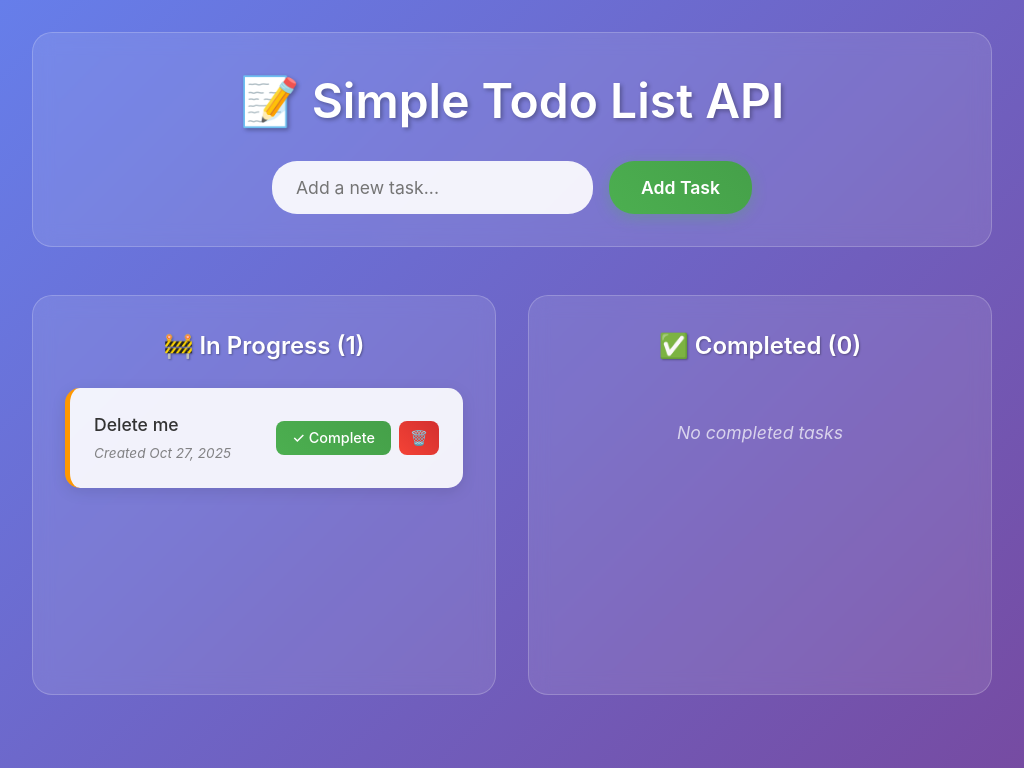
deletes a todo removes it from the list
The image size is (1024, 768).
Expected: the button "Delete me" is shown, x1=94 y1=414 x2=179 y2=435
Click the button "🗑️". click: (419, 438)
box: x1=399 y1=421 x2=439 y2=455
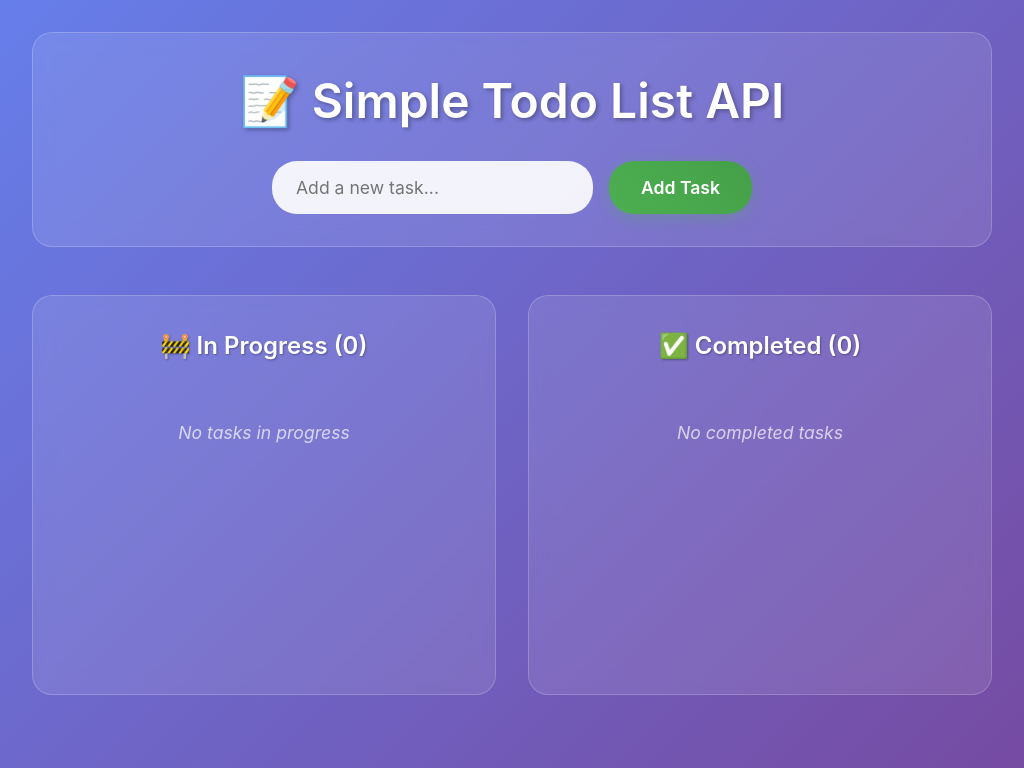
Now the button "Delete me" is gone
